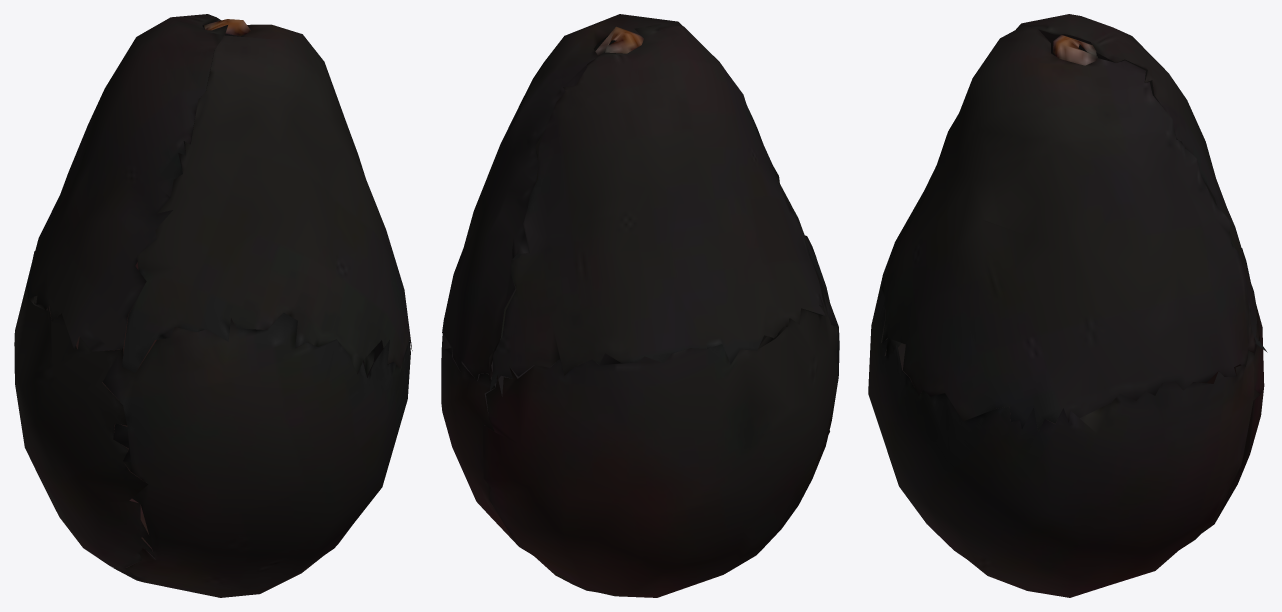
File: food_avocado_01.glb
3 views of the same model, side by side, from view 1: azimuth 30°, elevation 25°; view 2: azimuth 150°, elevation 25°; view 3: azimuth 270°, elevation 25° (orthographic). The views are drawn at different scales.
Parts seen in each view (by area): view 1: food_avocado_01; view 2: food_avocado_01; view 3: food_avocado_01.
Boxes of the visible parts, x1,y1,x2,y2 form: food_avocado_01: (14, 14, 412, 597); food_avocado_01: (441, 14, 839, 597); food_avocado_01: (868, 14, 1267, 597).
Bounding box in the file's own units: 0.0957 × 0.143 × 0.0951.
Materials: 1 (1 with a texture image).
